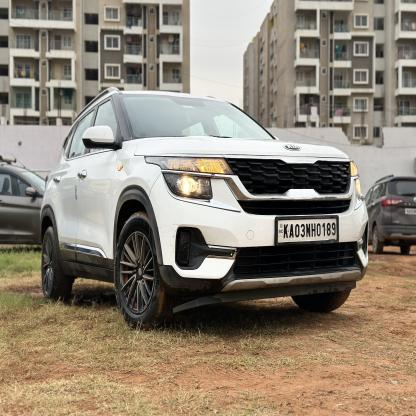car: (39, 90, 366, 324), (368, 168, 416, 257), (3, 157, 41, 250)
